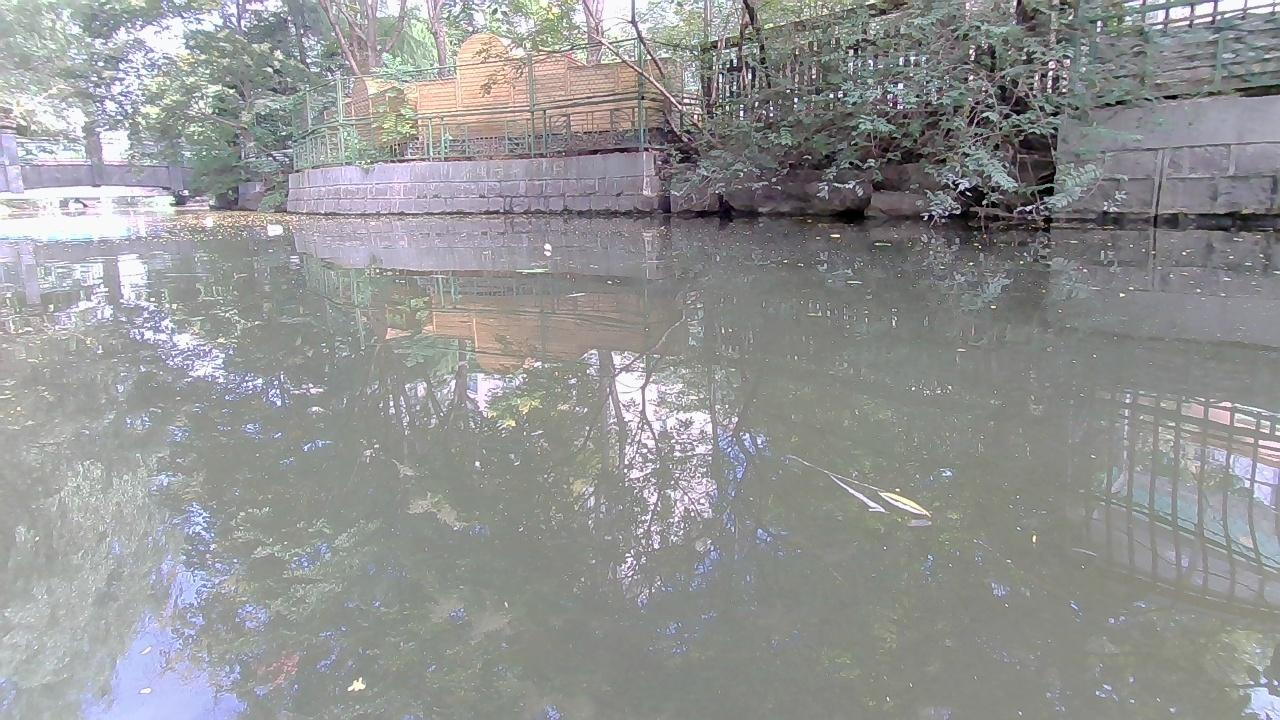bottle: (263, 222, 285, 233), (541, 238, 555, 255), (201, 217, 214, 226)
